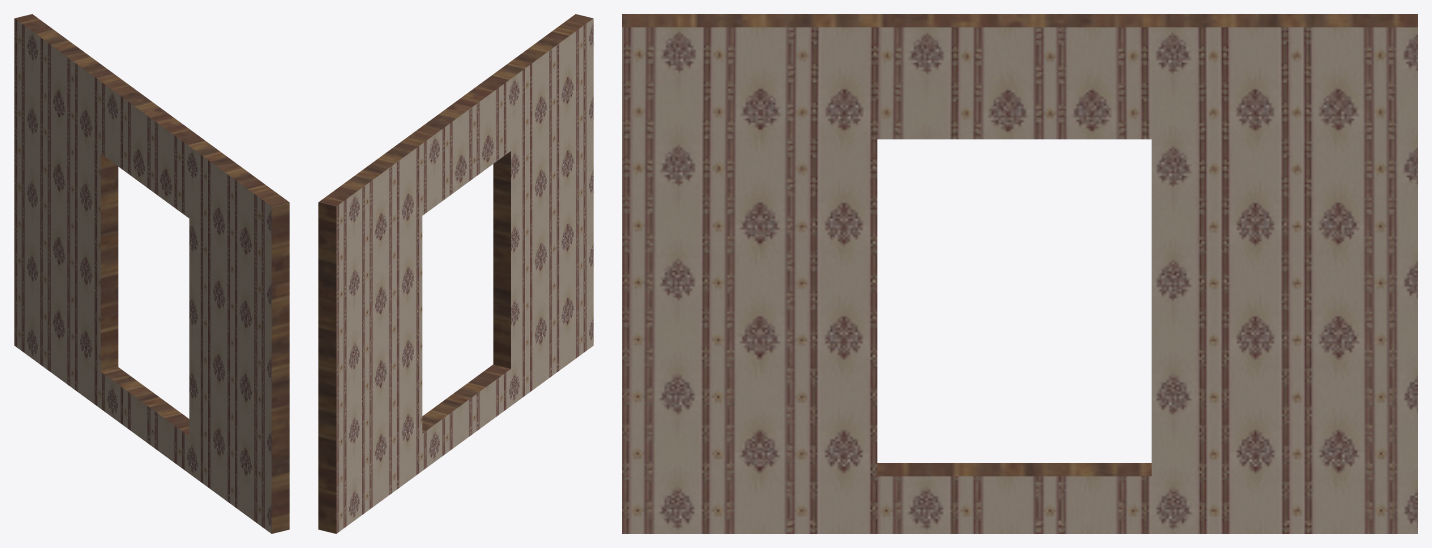
The model's file is scene_2_wall_11.dae.
3 renders of one model, left to right at view 1: azimuth 30°, elevation 25°; view 2: azimuth 150°, elevation 25°; view 3: azimuth 270°, elevation 25°, orthographic. The views are drawn at different scales.
Parts seen in each view (by area): view 1: Cube.002; view 2: Cube.002; view 3: Cube.002.
Boxes of the visible parts, x1,y1,x2,y2 form: Cube.002: [14, 14, 289, 533]; Cube.002: [318, 14, 593, 533]; Cube.002: [622, 14, 1417, 533].
Size of the model in its own units: 0.2 by 5 by 3.51.
